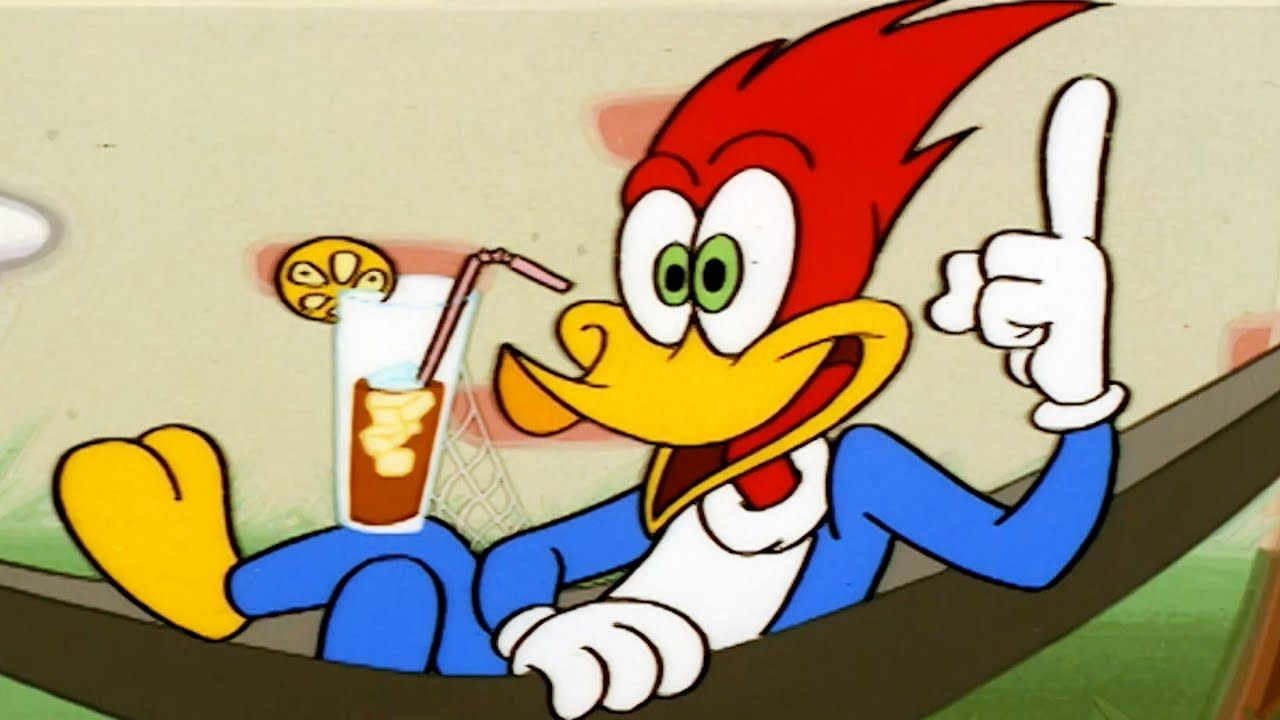picapau: (34, 11, 1195, 720)
